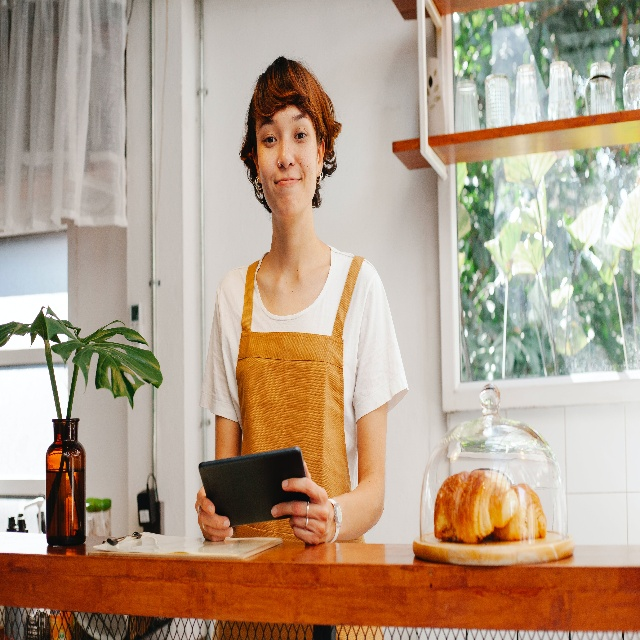Sin_guantes: (271, 460, 330, 546), (195, 486, 234, 543)
